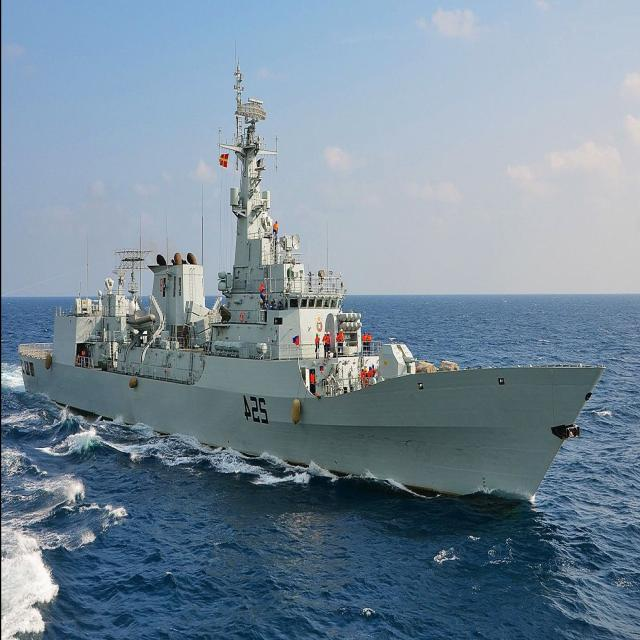navalvessels: (3, 52, 605, 508)
